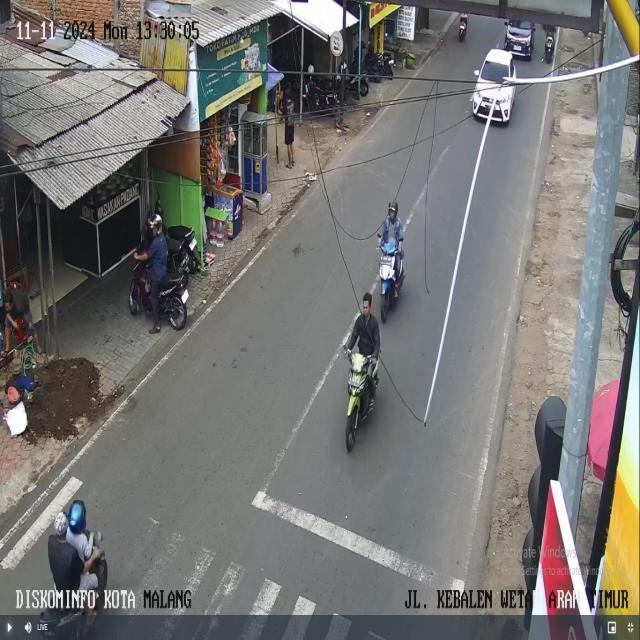Helmet: (68, 500, 85, 533), (53, 512, 67, 536), (148, 213, 162, 228), (7, 386, 19, 403), (388, 201, 397, 213), (307, 64, 315, 74)
Number Plate: (380, 256, 392, 265), (181, 289, 188, 302), (189, 238, 196, 249), (513, 45, 521, 50)
Rearview Mirror: (474, 69, 479, 76)
